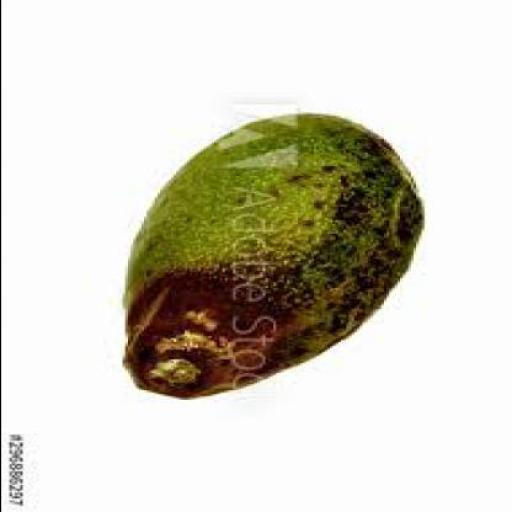biodegradable: (124, 110, 429, 396)
